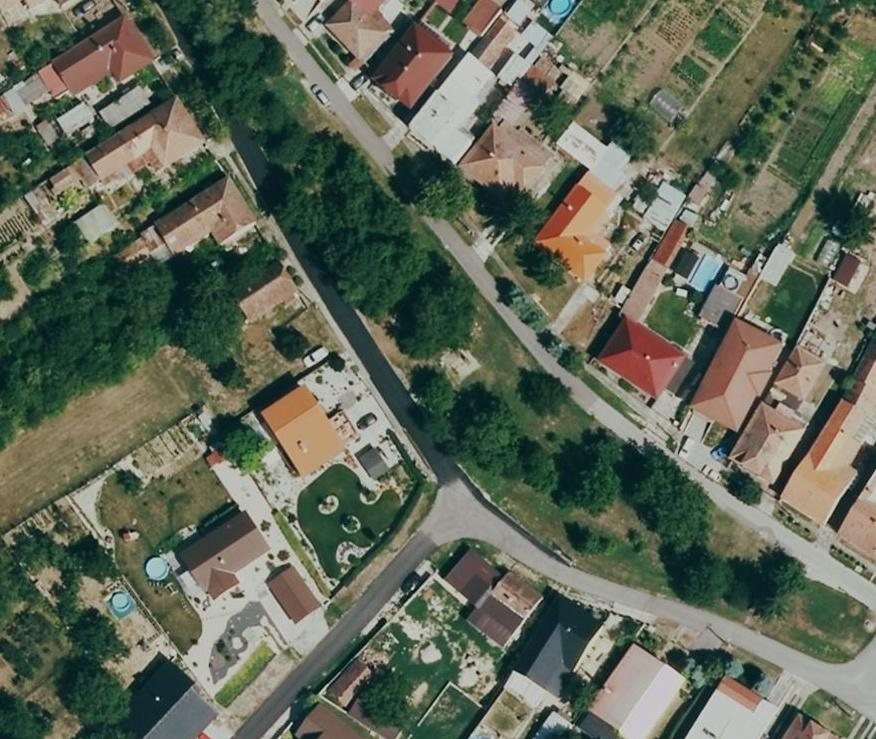field: (534, 0, 804, 184), (0, 346, 245, 528)
forest: (190, 12, 476, 357), (412, 364, 734, 605), (0, 241, 281, 444), (736, 549, 794, 613)
